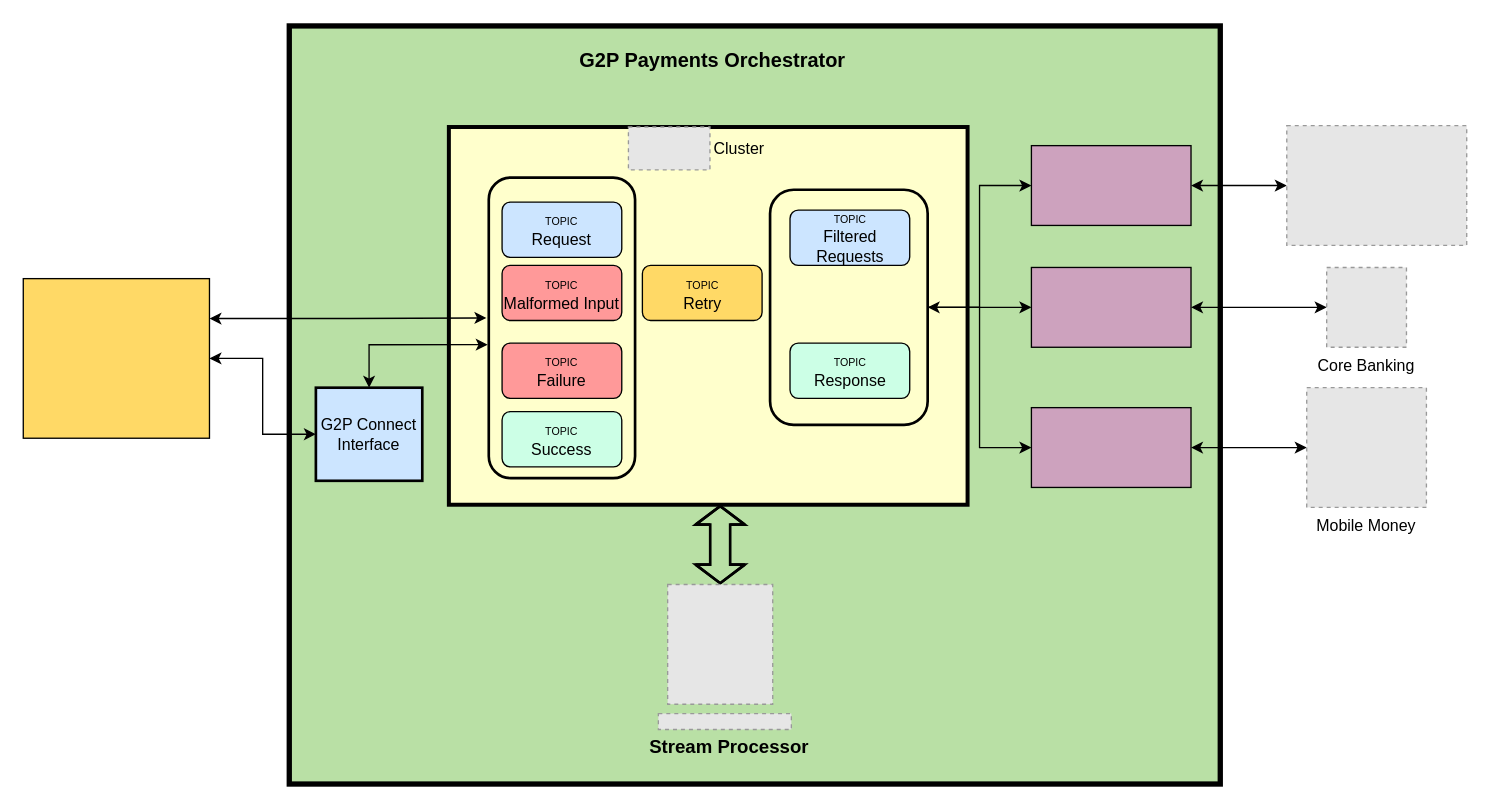
The diagram is 1491 pixels wide and 809 high, and some of its shapes have lost their labels. Grey dashed boxes stand in for pictures. The centre of each missing label's shape, as x and y in pixels:
Core Banking Connector: (x=1110, y=306)
G2P System: (x=115, y=357)
Mobile Money Connector: (x=1110, y=446)
Payment Gateway Connector: (x=1110, y=184)
